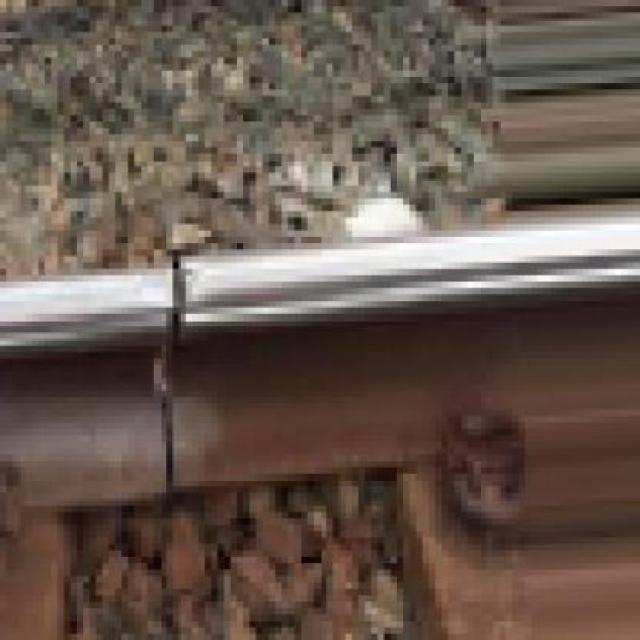defective: (66, 178, 417, 555)
